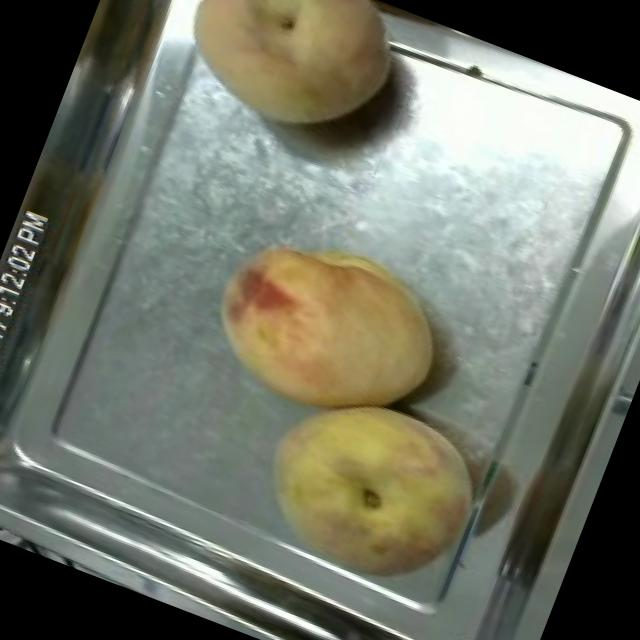Fruit: (188, 205, 468, 454), (231, 363, 500, 616), (156, 0, 420, 167)
